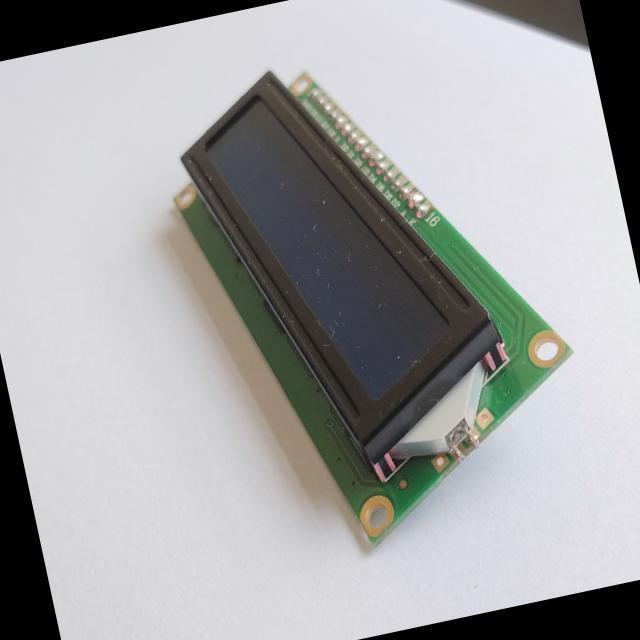lcd: (136, 4, 620, 588)
